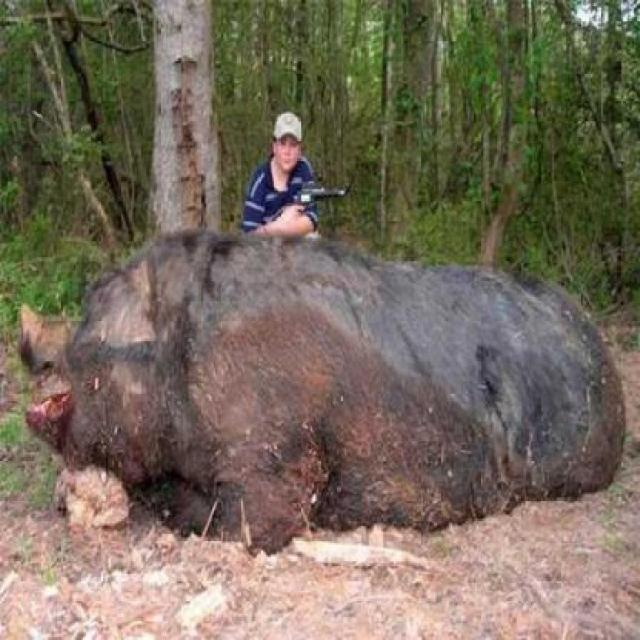Boar: (7, 202, 638, 549)
